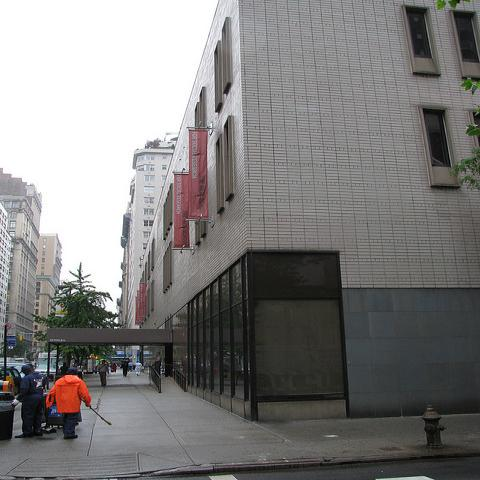car: (0, 366, 22, 394)
